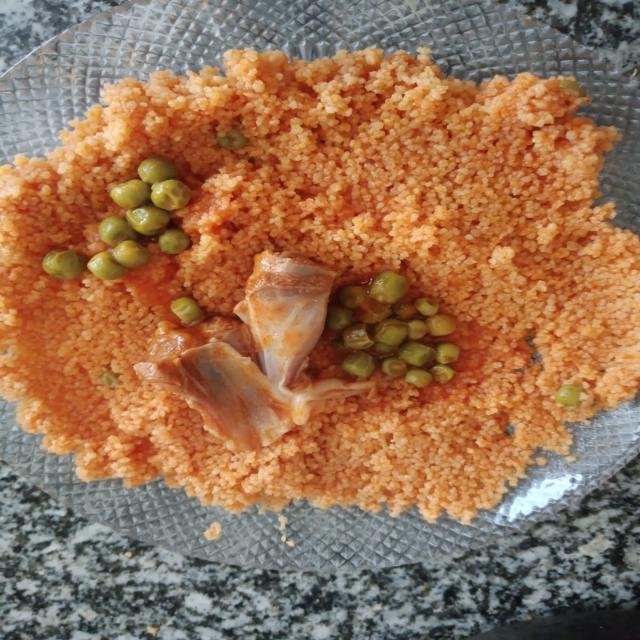Couscous: (11, 25, 640, 589)
